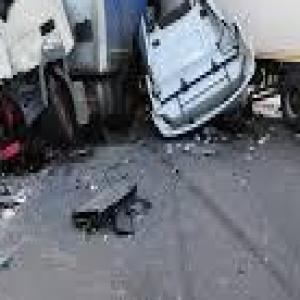critical: (0, 0, 300, 163)
